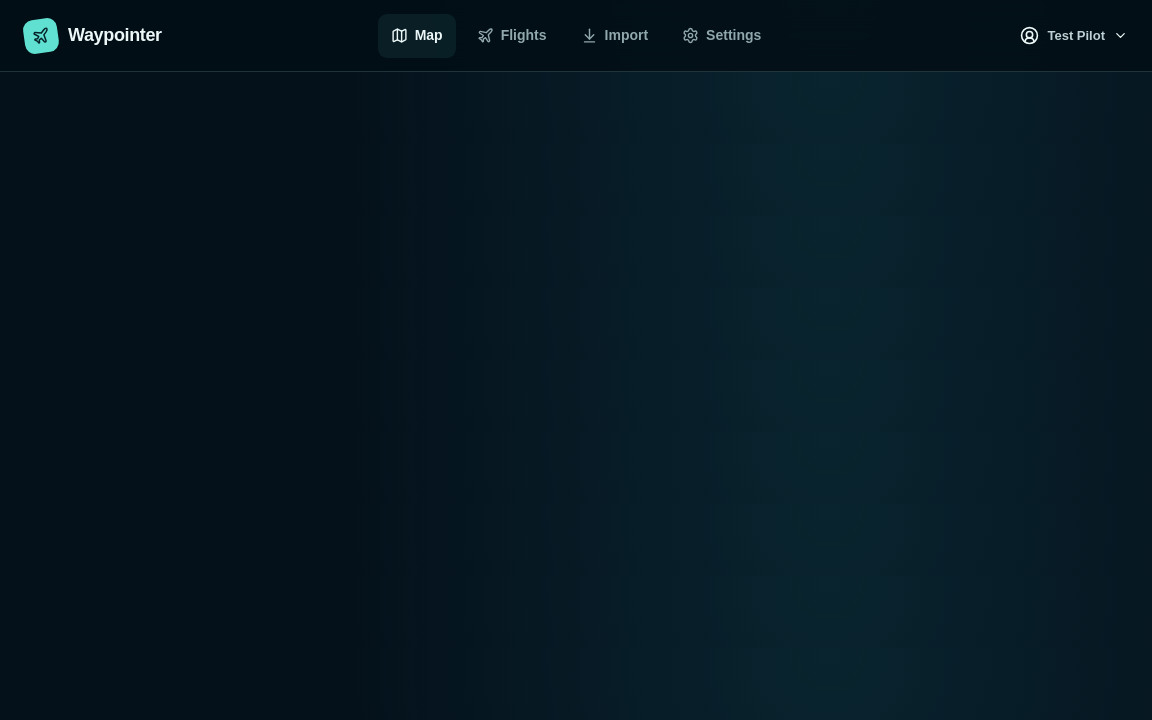
it: application navigation › opens a real account menu with existing actions
Step 1. Click the button with aria-label "Account menu for pilot@example.test" → (1074, 36), box [1020,14,1128,58]
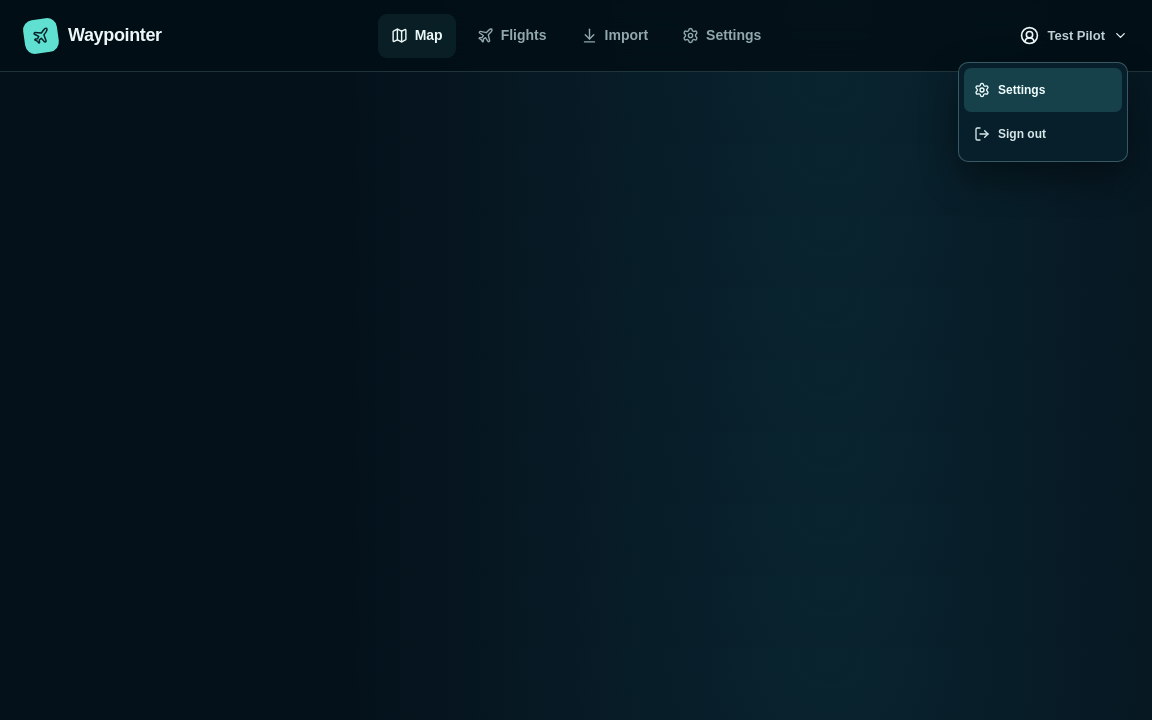
expect the menu named "Account actions" is shown: met, box [958,62,1128,162]
